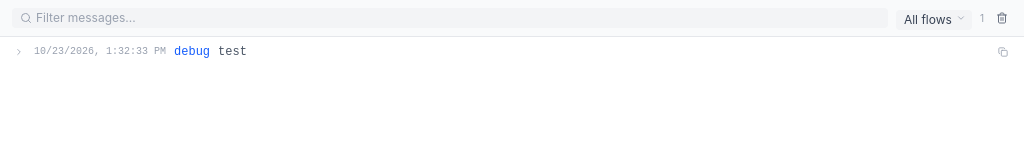
Test case: DebugPanel › expand tree view › expands tree view on clicking expand button
// Click expand
Click the button with test id "debug-expand-btn".
click(19, 52)  # box [12, 45, 26, 59]
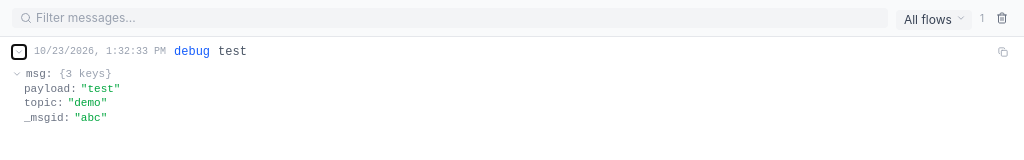
Expected: the element with test id "debug-tree-view" is shown, [12, 67, 120, 124]
